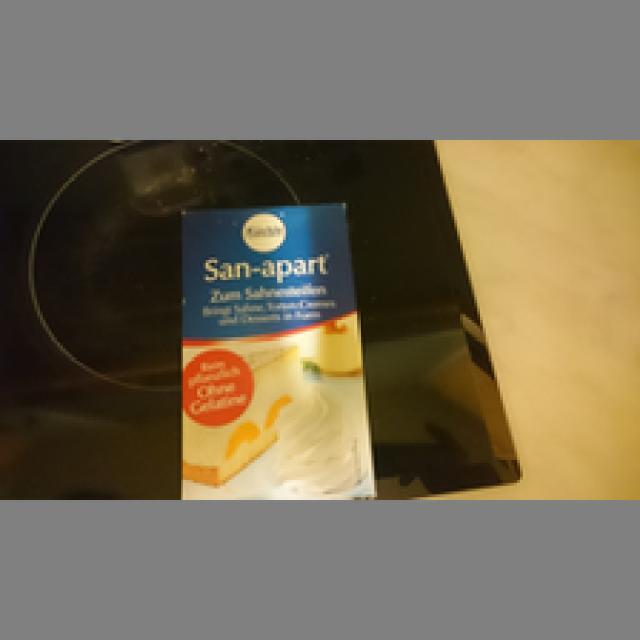groceries: (174, 197, 374, 497)
